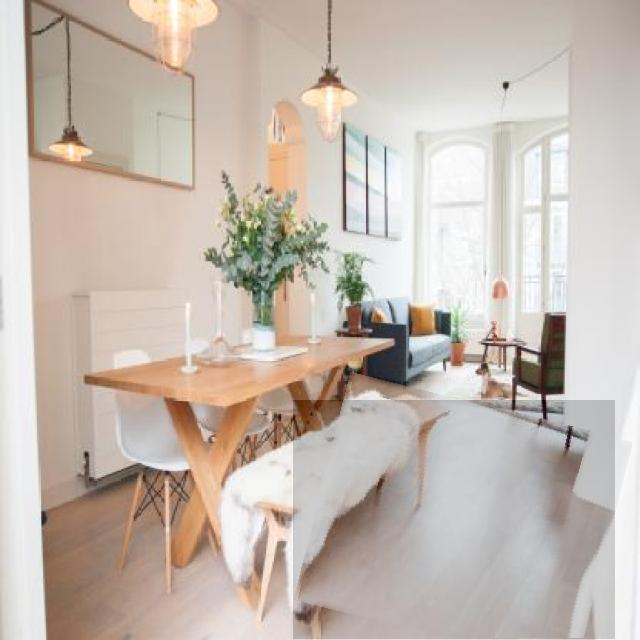floor: (293, 400, 615, 639), (40, 478, 315, 639)
